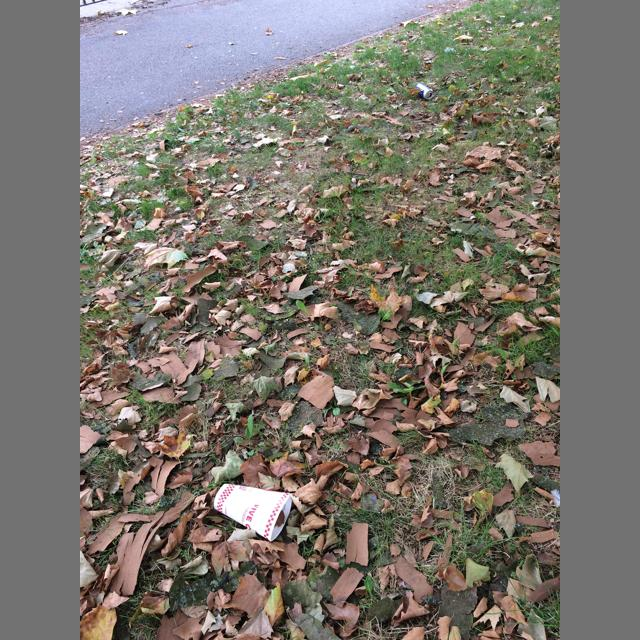litter: (214, 484, 293, 541), (416, 83, 433, 99)
